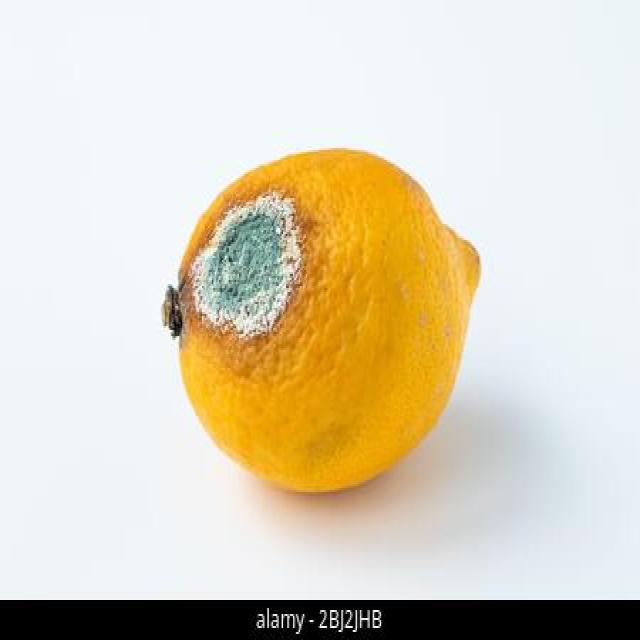Rotten: (157, 147, 481, 496)
